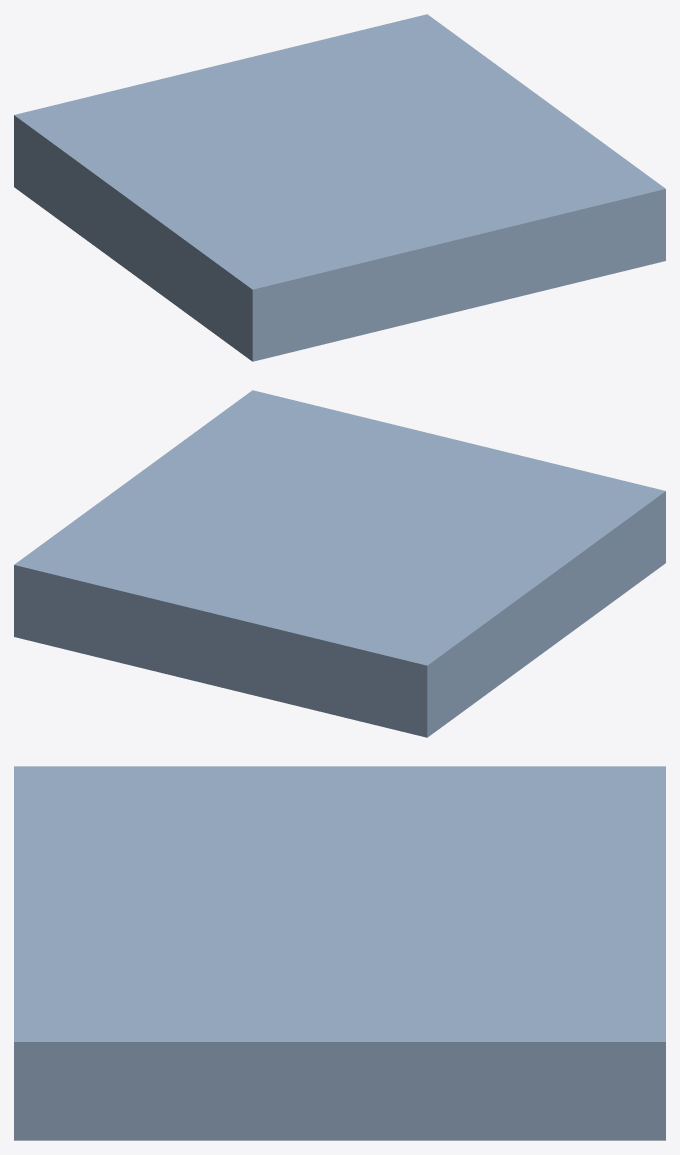
File: tileinventory.glb
3 views of the same model, one above another, from view 1: azimuth 30°, elevation 25°; view 2: azimuth 150°, elevation 25°; view 3: azimuth 270°, elevation 25° (orthographic). The views are drawn at different scales.
Visible parts, largest first — view 1: generated(Clone); view 2: generated(Clone); view 3: generated(Clone).
Boxes of the visible parts, x1,y1,x2,y2 form: generated(Clone): [14, 14, 665, 361]; generated(Clone): [14, 390, 665, 737]; generated(Clone): [14, 766, 665, 1140].
Size of the model in its own units: 6 by 1 by 6.
